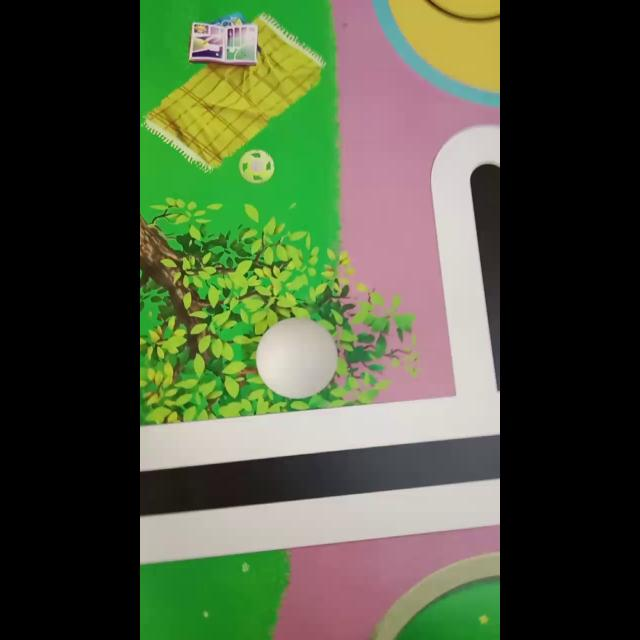white ball: (254, 316, 338, 399)
